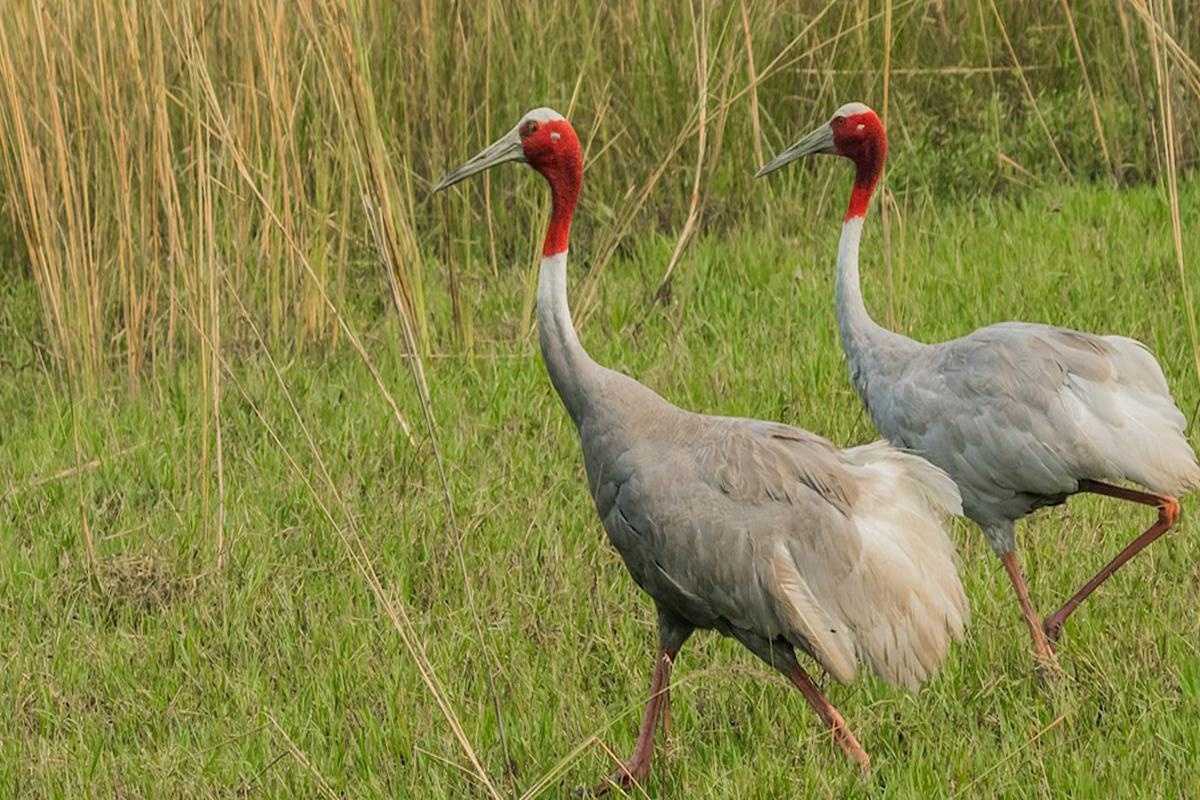crane: (415, 94, 925, 794), (755, 65, 1200, 710)
